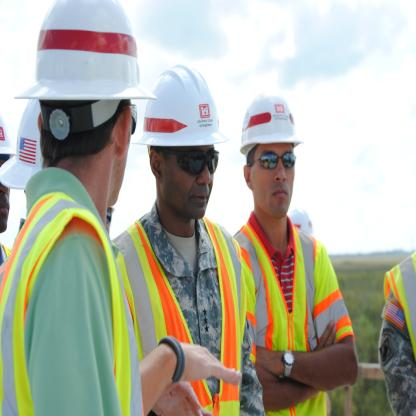Helmet: (12, 0, 155, 143), (131, 61, 229, 159), (0, 95, 46, 197), (240, 88, 301, 155), (0, 109, 23, 162)
